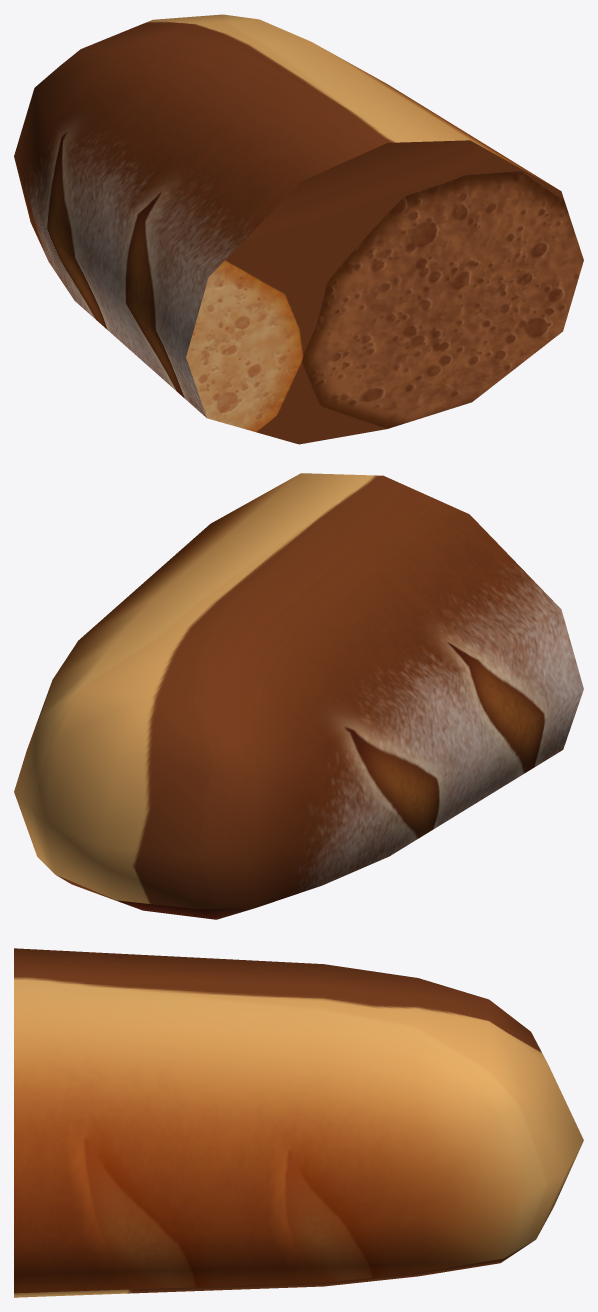
File: French_01_Half.fbx
3 renders of one model, top to bottom at view 1: azimuth 30°, elevation 25°; view 2: azimuth 150°, elevation 25°; view 3: azimuth 270°, elevation 25°, orthographic.
Parts seen in each view (by area): view 1: French_01_Half; view 2: French_01_Half; view 3: French_01_Half.
Part boxes in pixels (x1,y1,x2,y2): French_01_Half: (14,14,583,444); French_01_Half: (14,473,583,919); French_01_Half: (14,948,583,1297).
Size of the model in its own units: 39.85 by 27.39 by 48.95.
